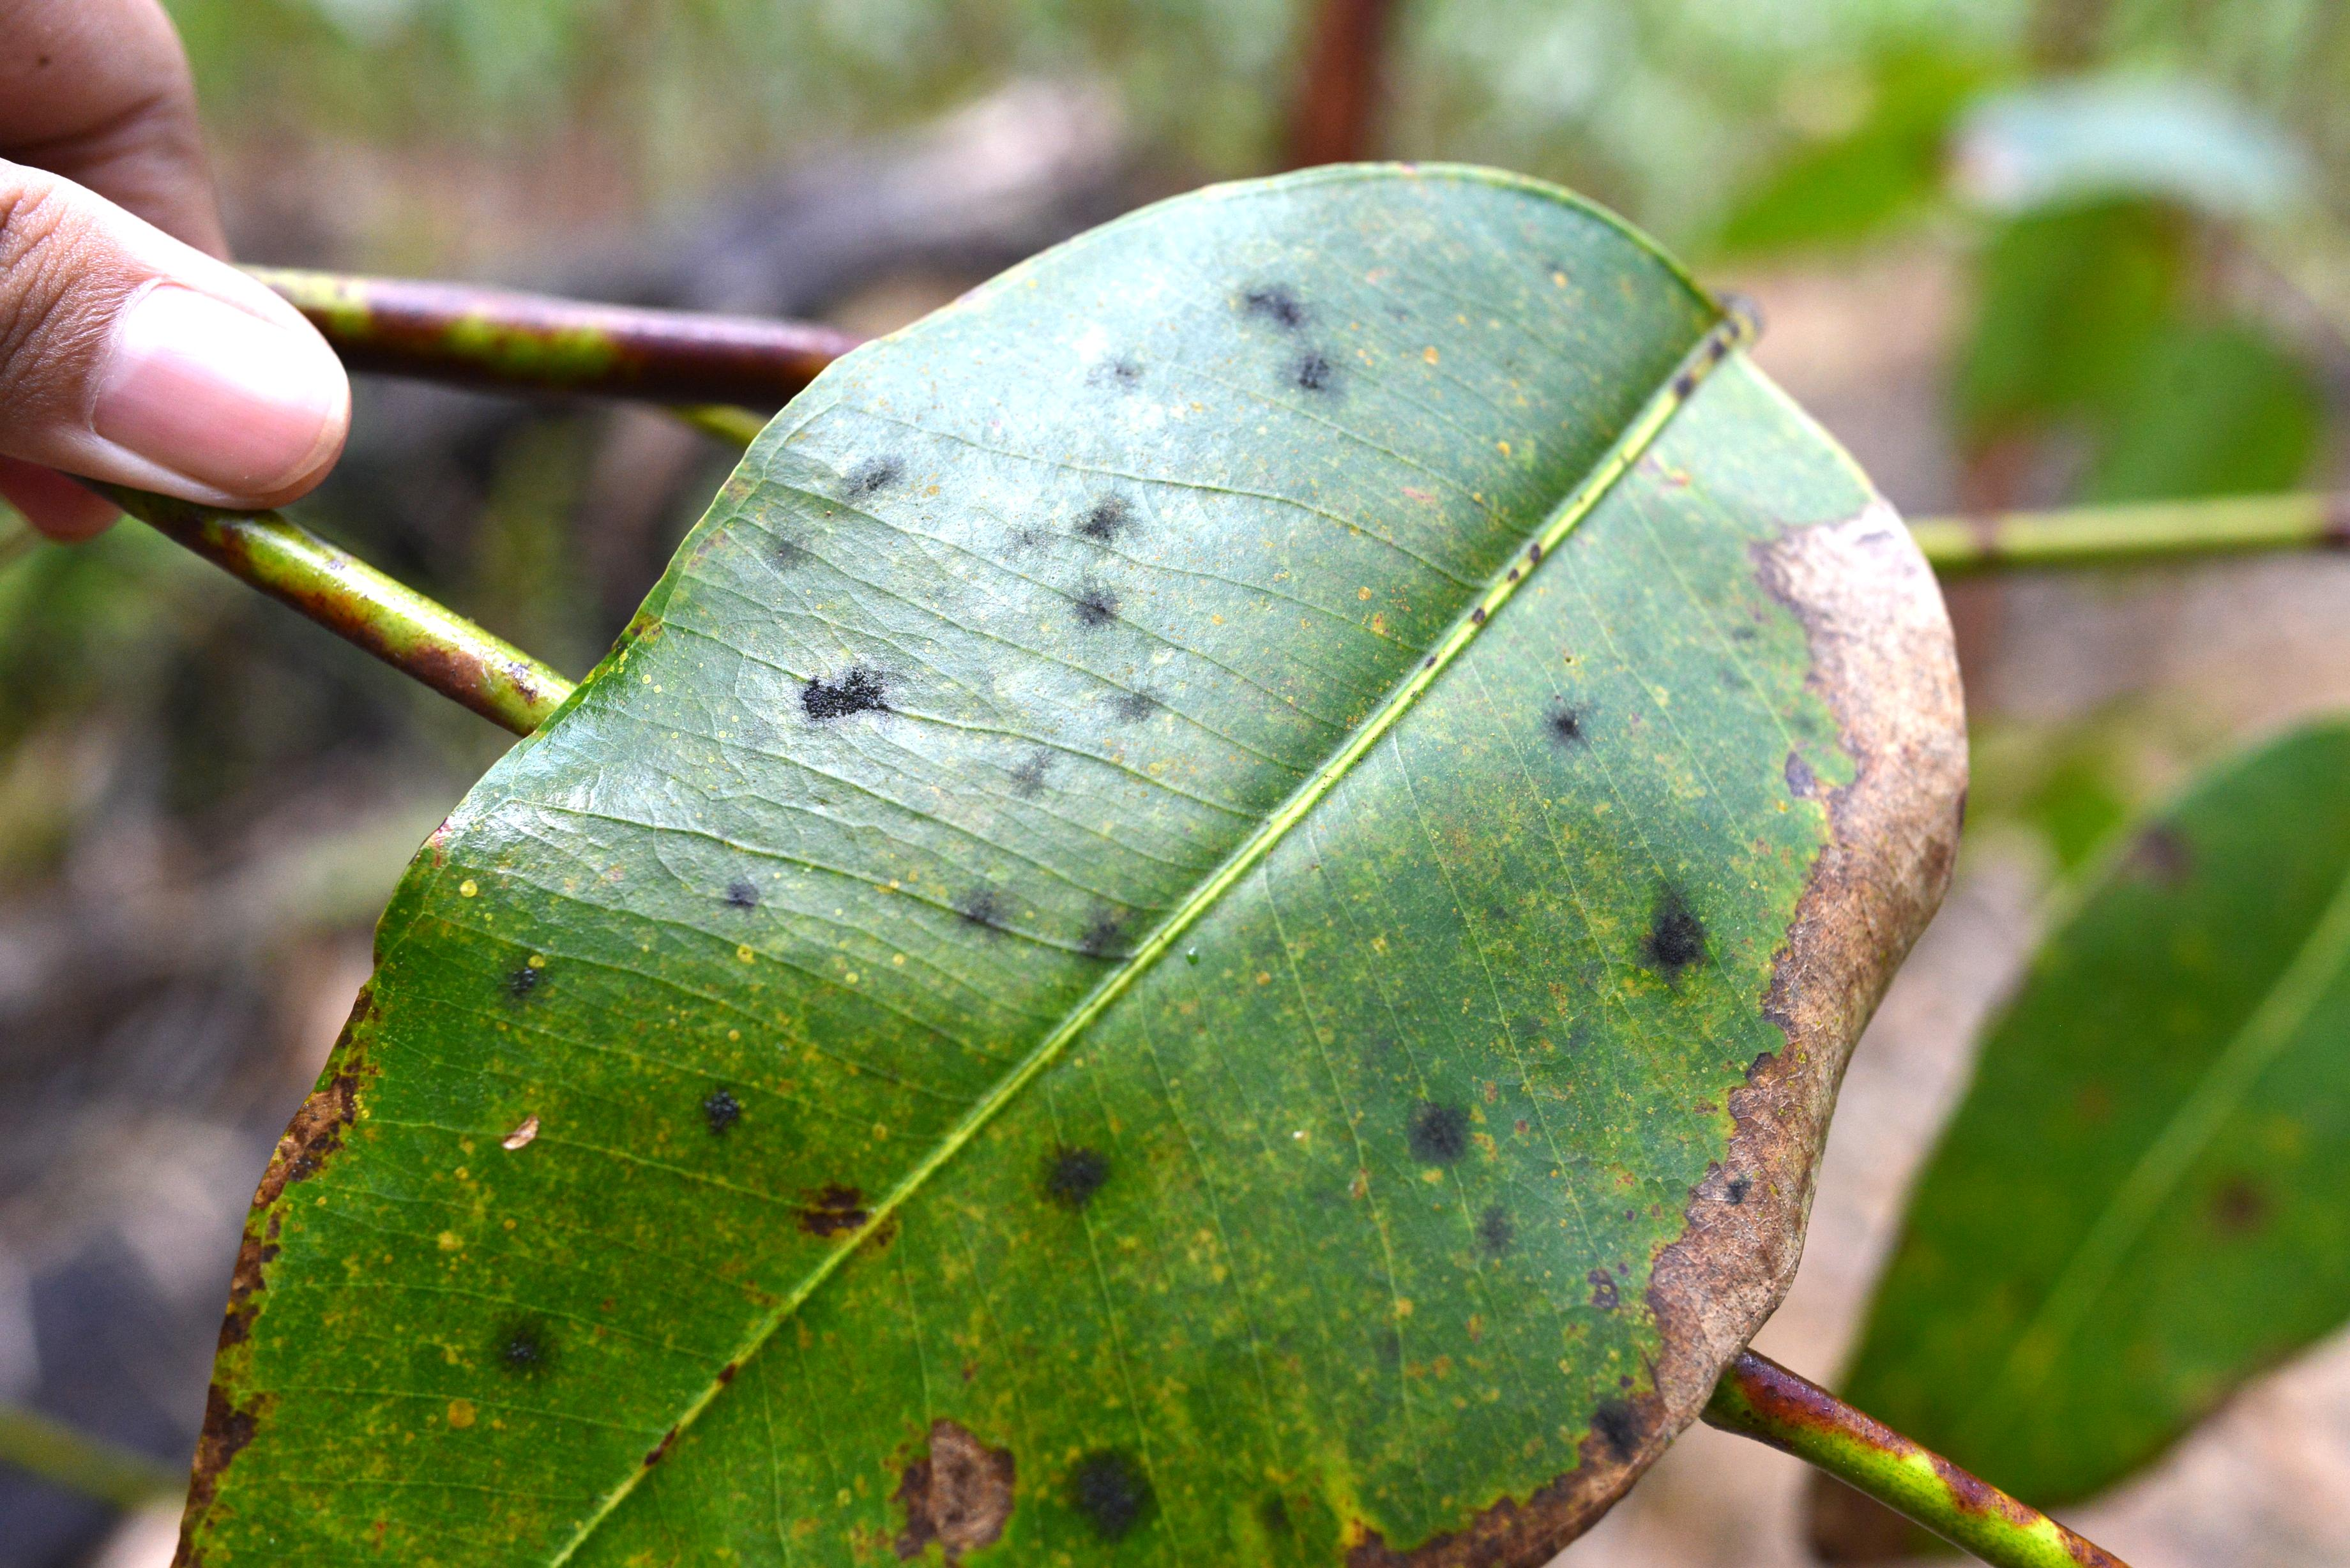Cylindrocladium: (1734, 467, 1984, 1344), (103, 1006, 390, 1568)
Embun Jelaga: (185, 150, 1724, 1556)
